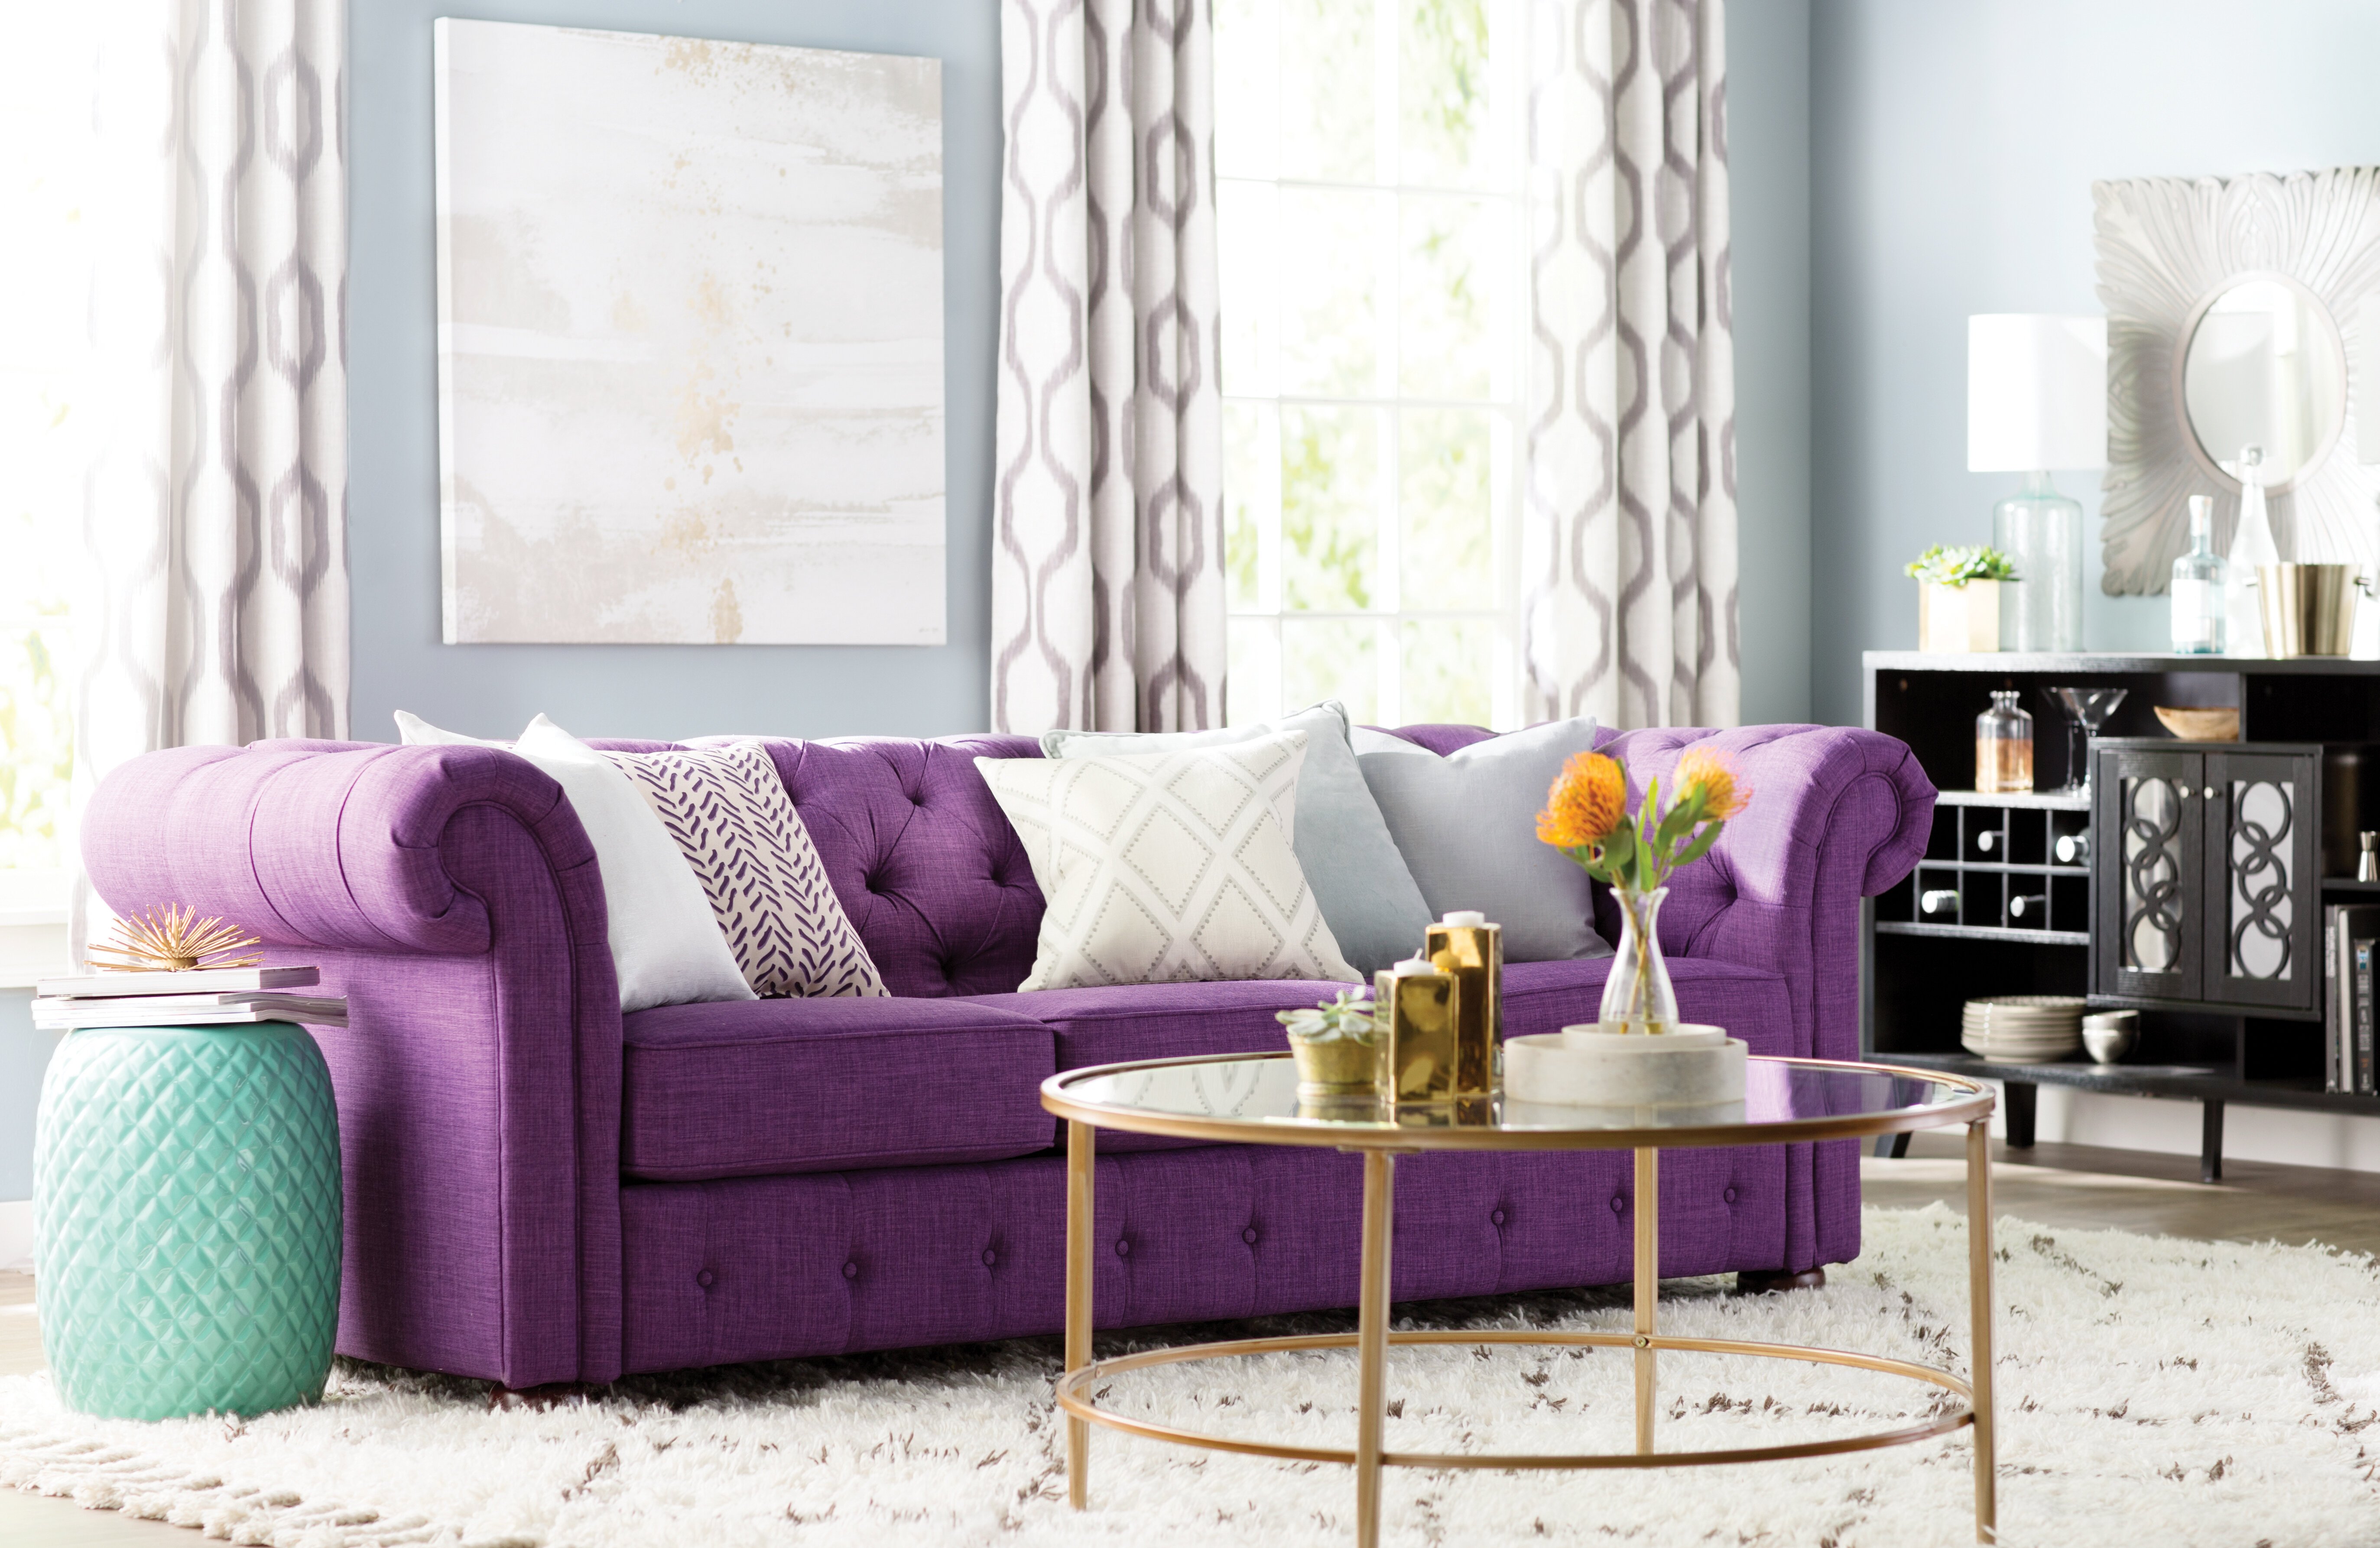biru: (43, 1034, 338, 1400)
putih: (980, 755, 1344, 982), (564, 753, 682, 998), (1969, 316, 2108, 481), (1506, 1026, 1761, 1102), (1920, 580, 2000, 656)
ungu: (361, 734, 1860, 1291)
